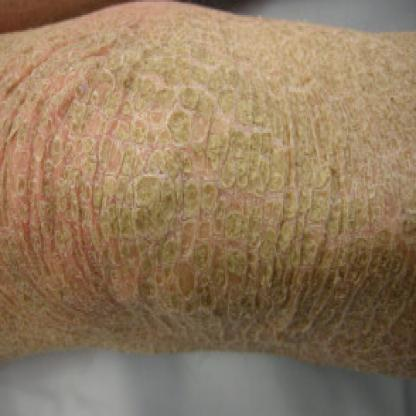Atopic Dermatitis: (62, 64, 408, 341)
